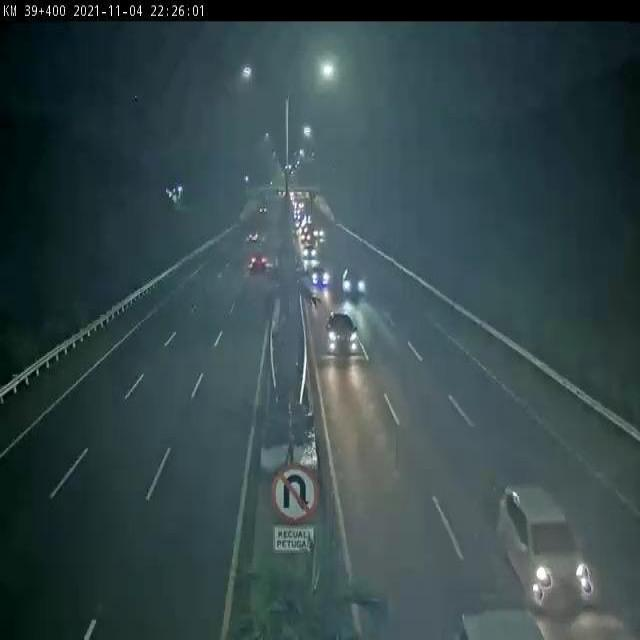car: (503, 484, 592, 613), (325, 313, 360, 356), (339, 265, 366, 296), (309, 264, 332, 288), (249, 253, 269, 275)
